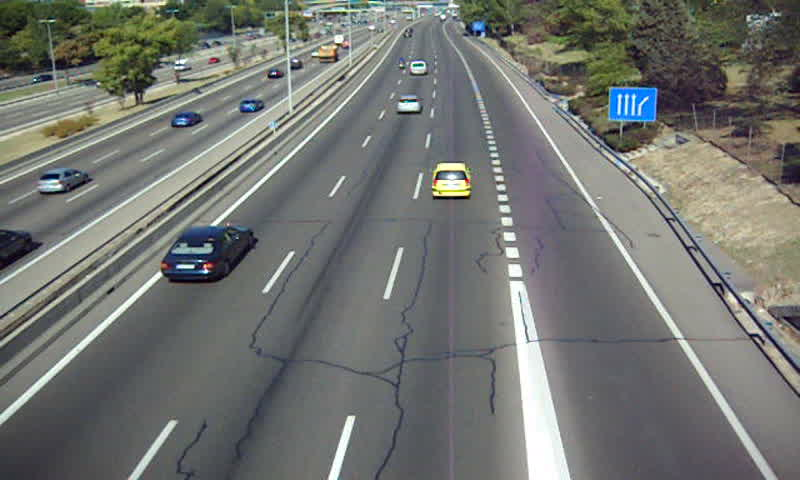car: (158, 228, 252, 280), (431, 162, 473, 198), (397, 93, 422, 114), (409, 60, 428, 76)
